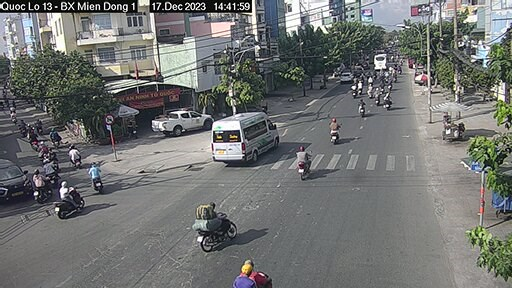car: (212, 113, 281, 166), (149, 108, 211, 134), (337, 70, 355, 85)
motorbike: (194, 204, 240, 250), (52, 183, 86, 222), (28, 164, 53, 204), (291, 145, 315, 183), (84, 158, 108, 195), (68, 144, 85, 168), (355, 98, 369, 118), (329, 118, 339, 146), (381, 93, 392, 113)
